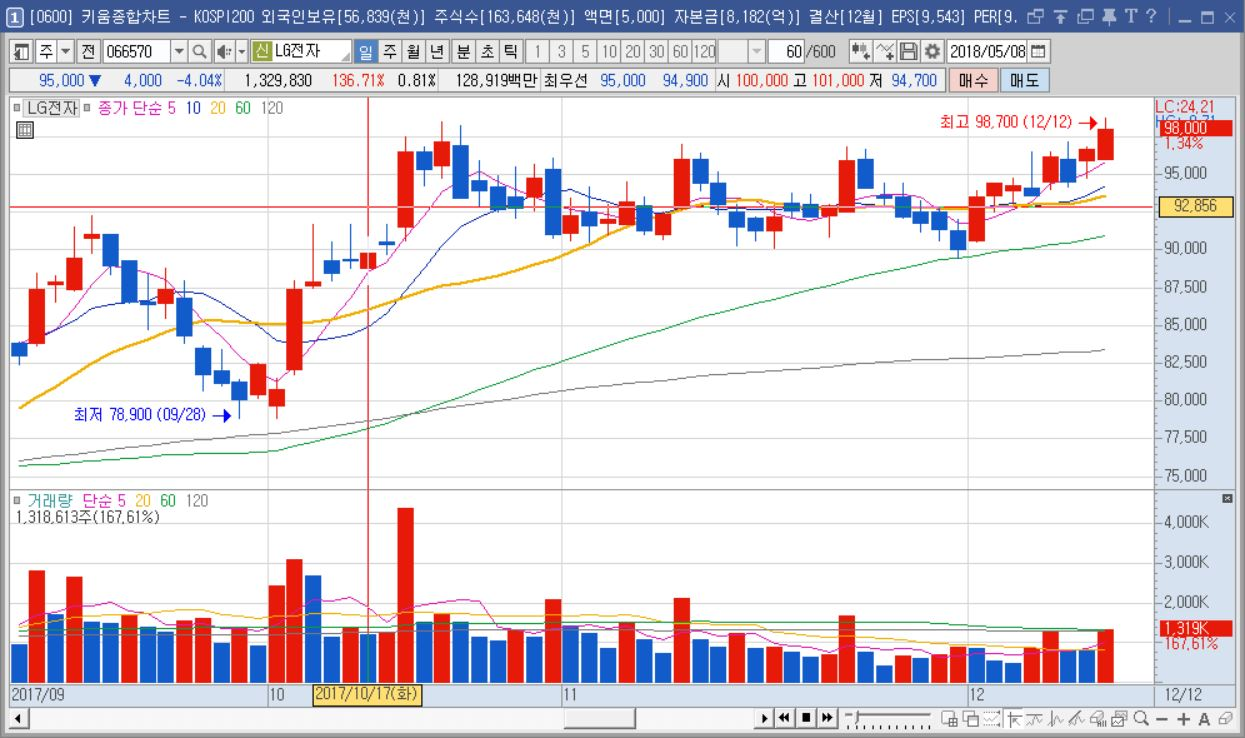up: (269, 109, 1116, 680)
